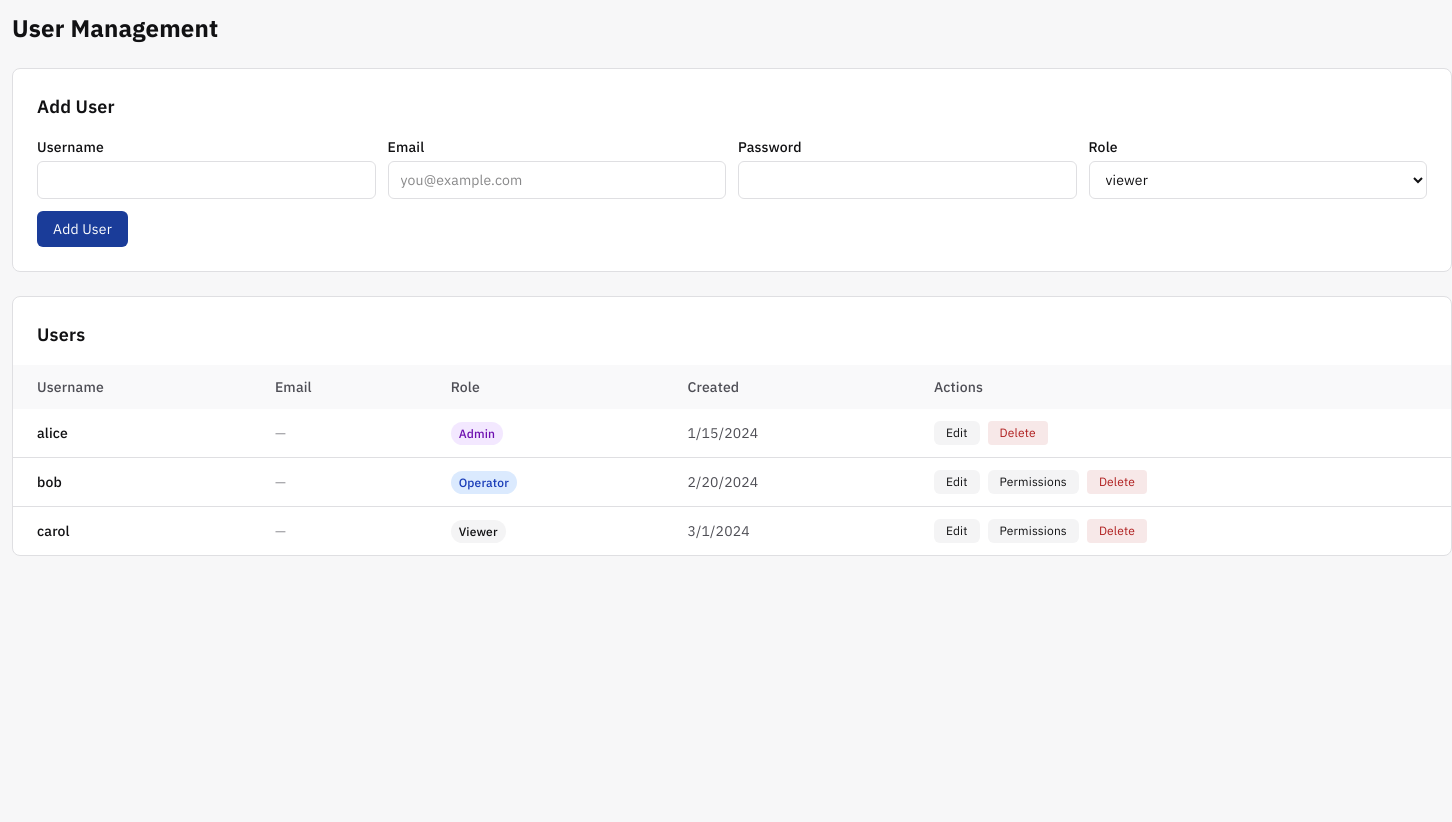
Test: Users › should cancel edit when cancel button is clicked
Expected: the text "alice" is shown, [13,409,251,458]
Step 1. Click the button "Edit" in the row of "alice" → (957, 433), box [934,421,980,445]
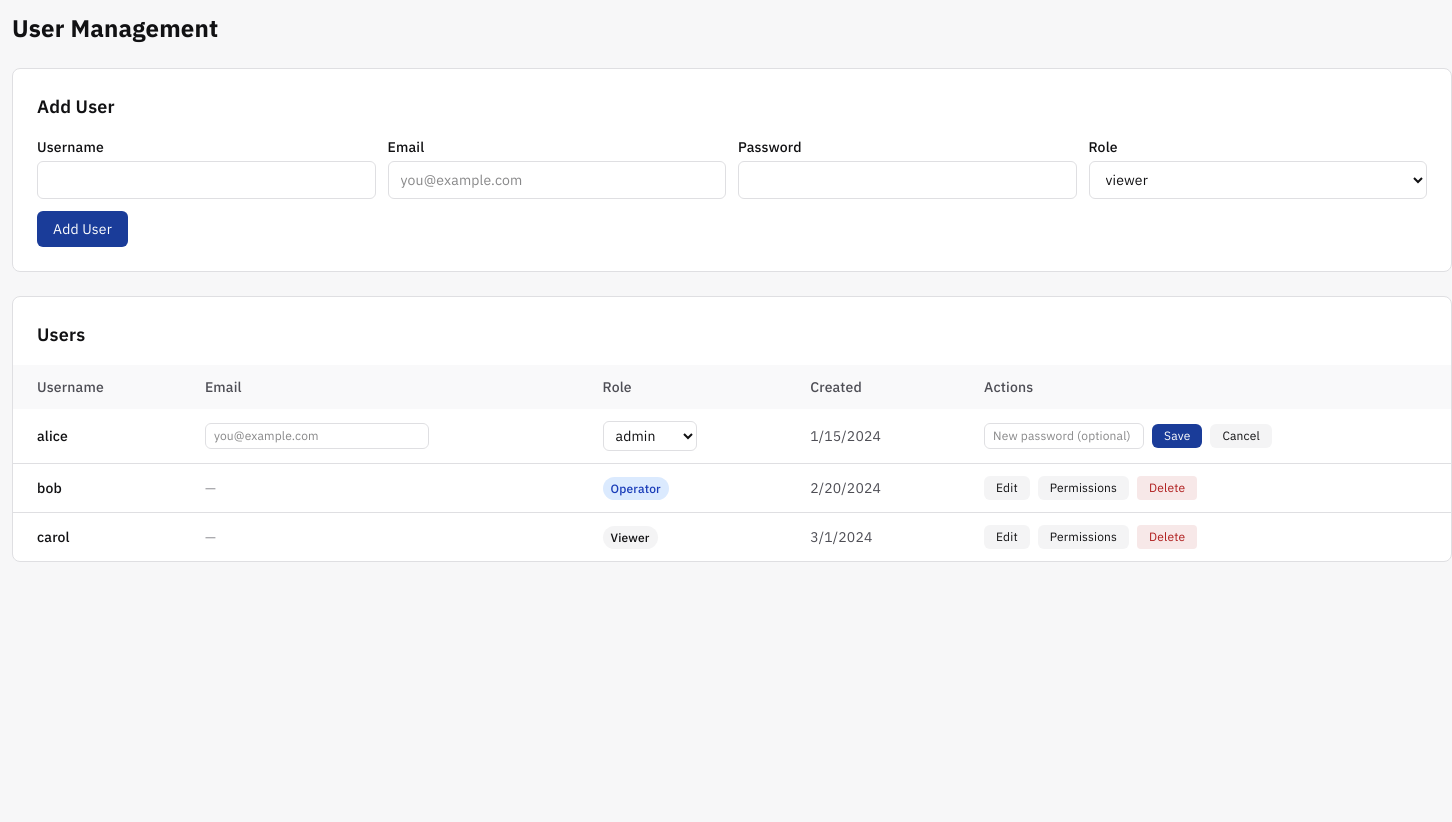
Result: the button "Cancel" is shown
Step 2. Click the button "Cancel" → (1241, 436), box [1210,424,1272,448]
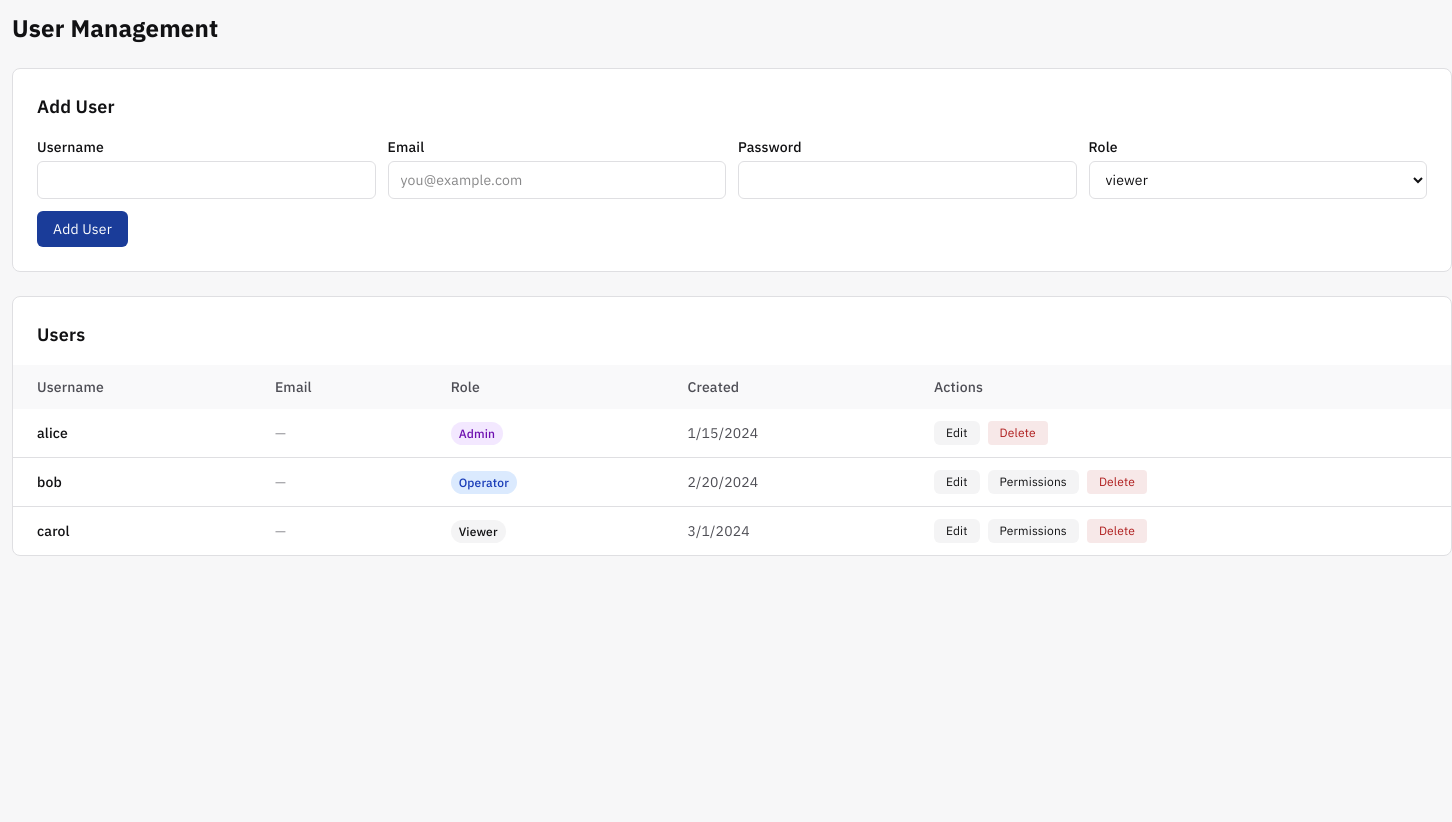
Result: the button "Save" is gone
